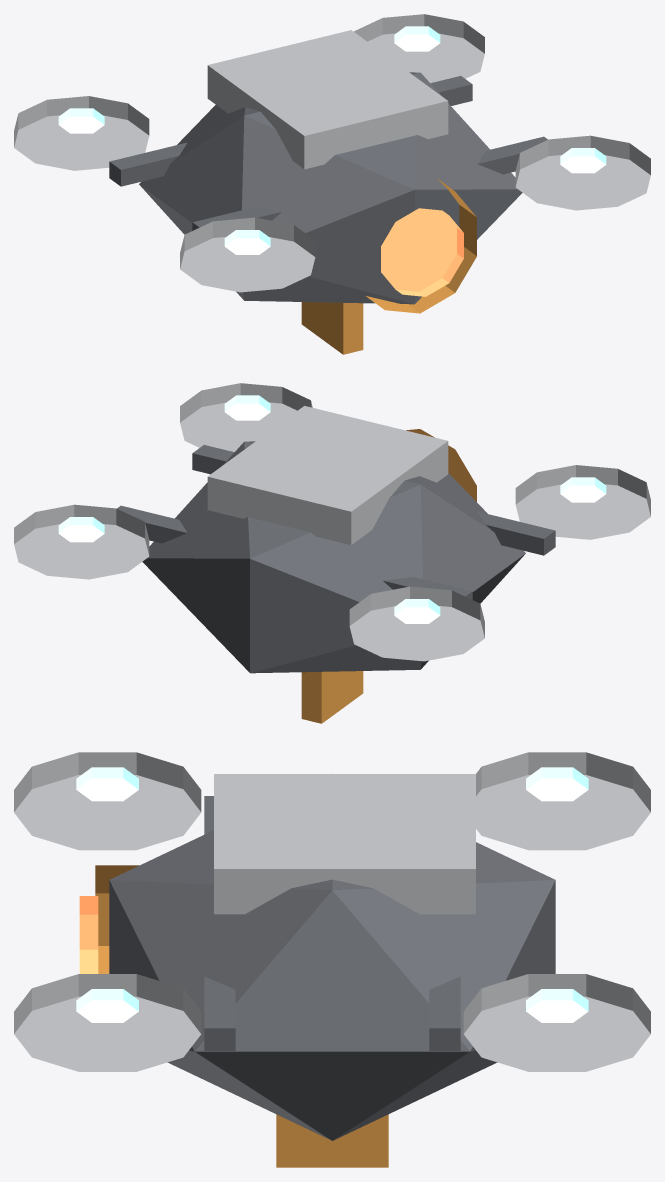
File: drone.glb
3 views of the same model, one above another, from view 1: azimuth 30°, elevation 25°; view 2: azimuth 150°, elevation 25°; view 3: azimuth 270°, elevation 25° (orthographic). The views are drawn at different scales.
Visible parts, largest first — view 1: drone; view 2: drone; view 3: drone.
Part boxes in pixels (x1,y1,x2,y2): drone: (14, 14, 650, 354); drone: (14, 383, 650, 723); drone: (14, 752, 650, 1167).
Size of the model in its own units: 1.13 by 0.6 by 1.02.
